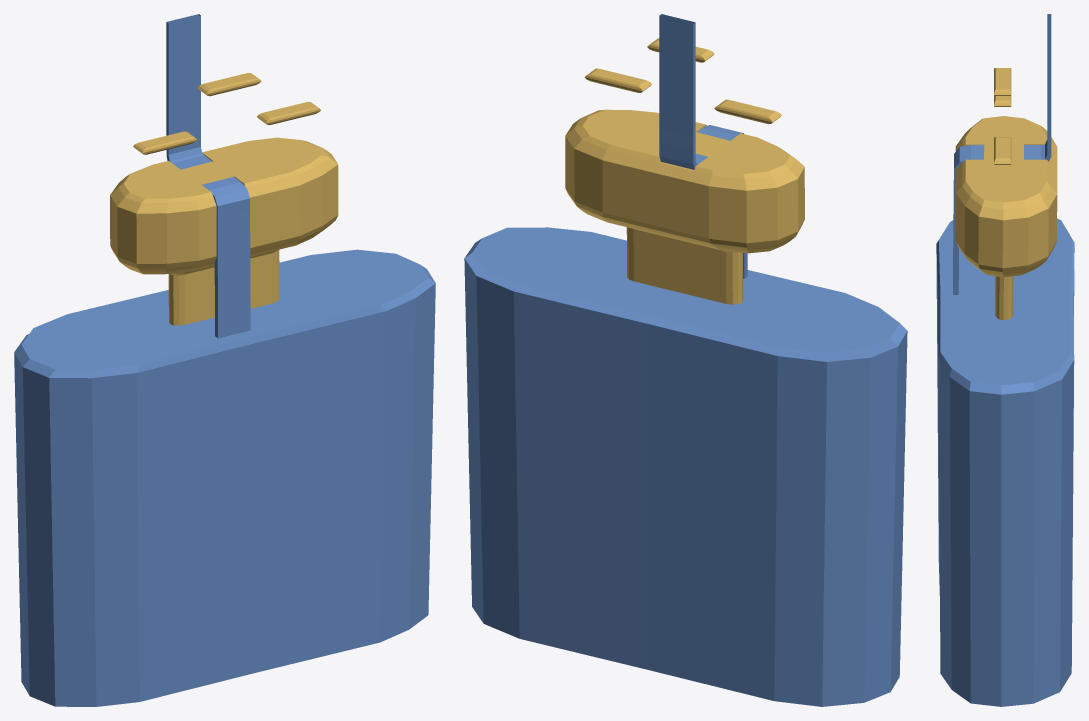
Rendered from DesertOasis.fbx.
3 renders of one model, left to right at view 1: azimuth 30°, elevation 25°; view 2: azimuth 150°, elevation 25°; view 3: azimuth 270°, elevation 25°, orthographic. The views are drawn at different scales.
Visible parts, largest first — view 1: DesertOasis; view 2: DesertOasis; view 3: DesertOasis.
Boxes of the visible parts, bbox=[...] form: DesertOasis: bbox=[14, 14, 435, 706]; DesertOasis: bbox=[464, 14, 907, 706]; DesertOasis: bbox=[936, 14, 1074, 706].
Bounding box in the file's own units: 186 × 272 × 57.91.
